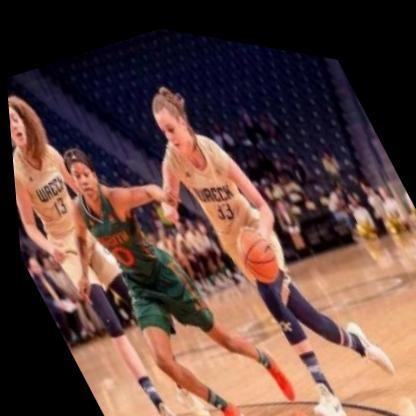basketball: (216, 201, 294, 292)
